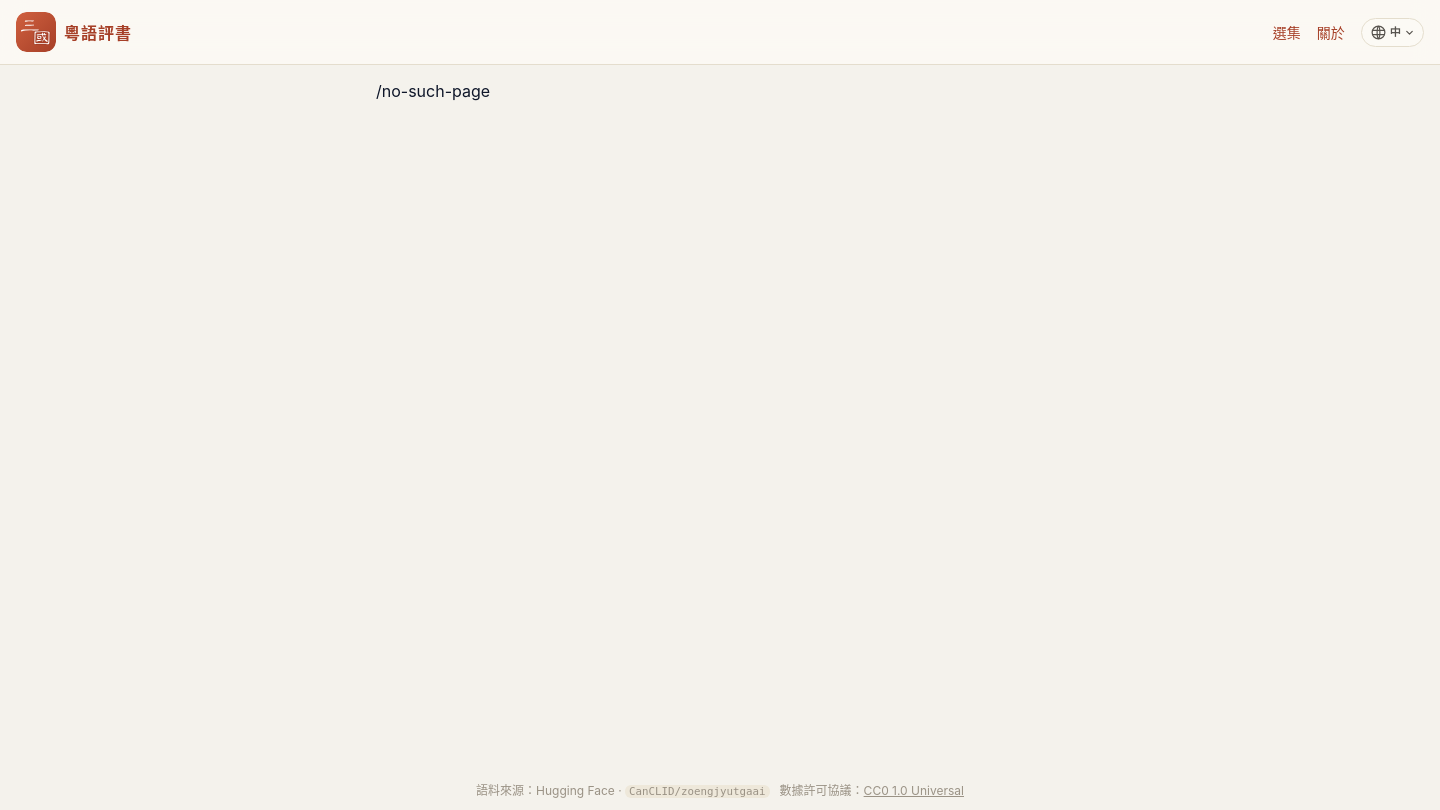
Test case: Layout locale switcher › is present and working on an unmatched route
Click the button "中" at {"x": 1392, "y": 32}, box x1=1361 y1=18 x2=1424 y2=46
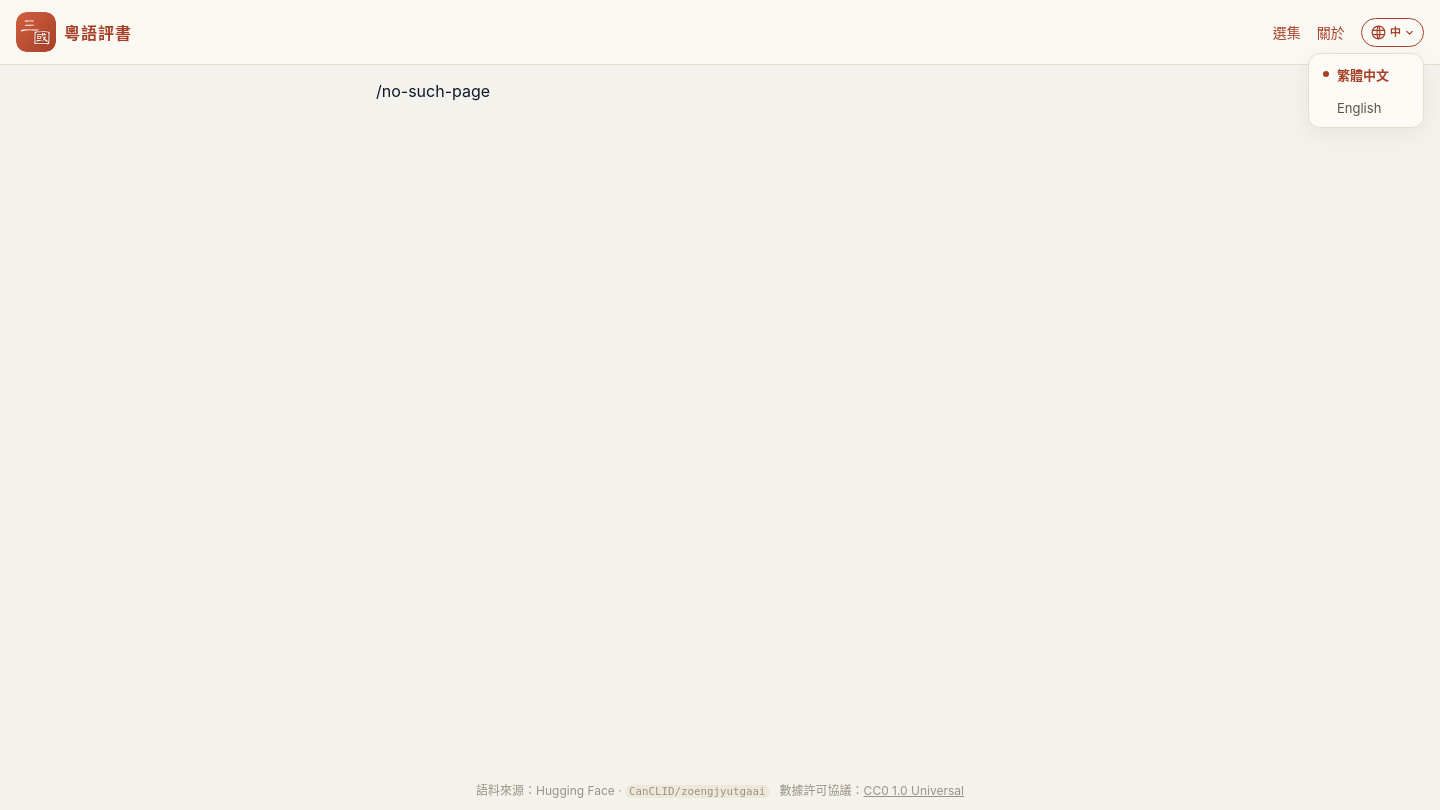
Click the button "English" at {"x": 1366, "y": 108}, box x1=1313 y1=92 x2=1419 y2=122
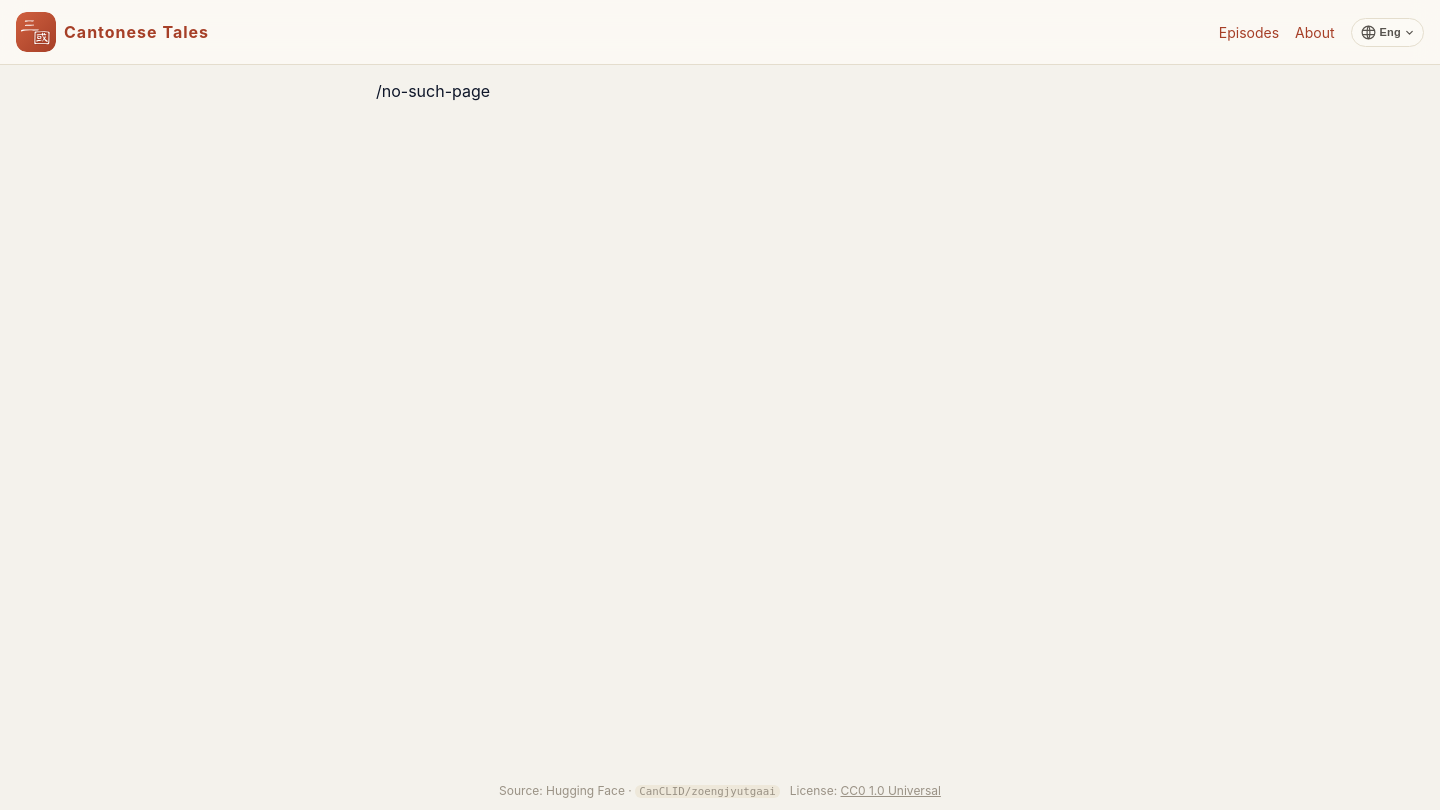
expect the text with test id "path" reads "/no-such-page": met, box x1=376 y1=81 x2=490 y2=101
expect the link "Episodes" is shown: met, box x1=1219 y1=24 x2=1279 y2=40
